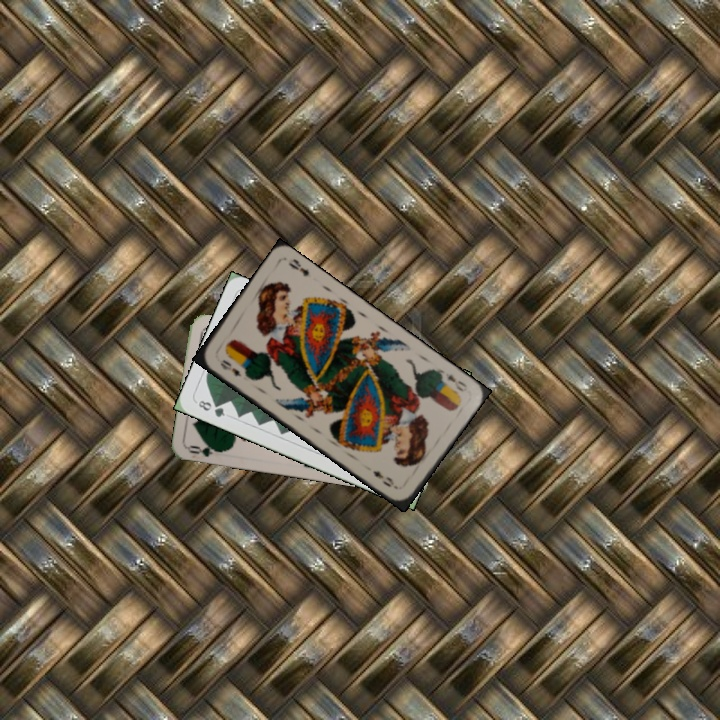EO: (435, 366, 470, 396), (216, 355, 245, 380)
G8: (194, 396, 228, 420)
GO: (185, 439, 226, 460)
